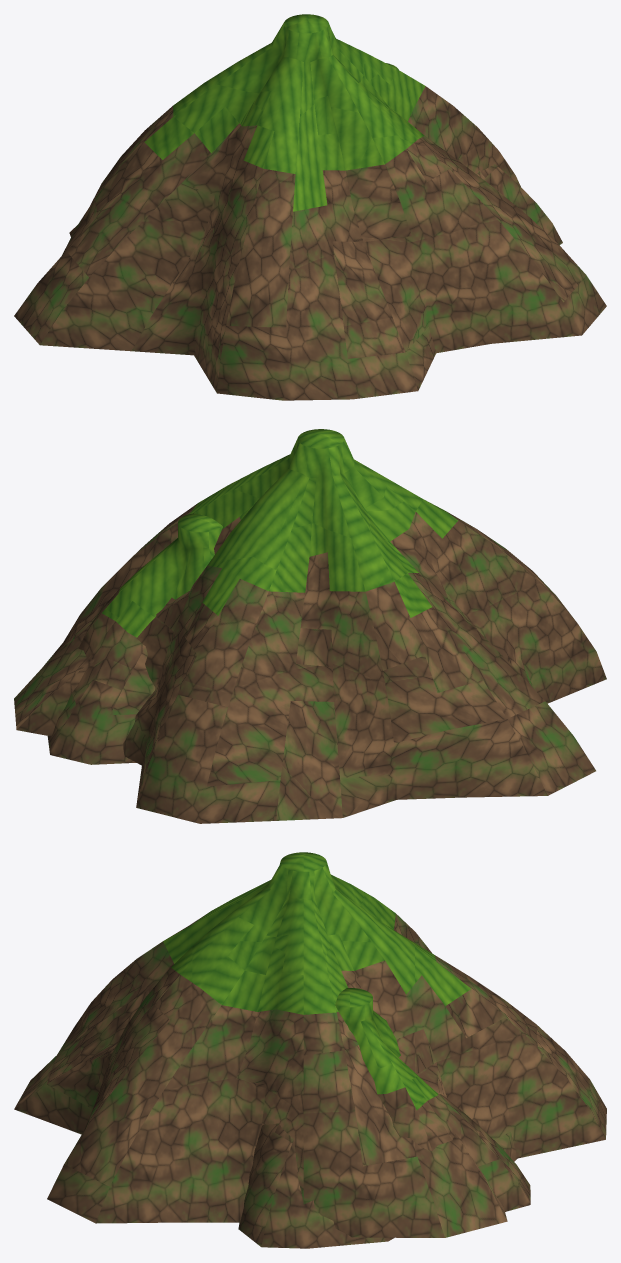
Rendered from prop_mountain_tiki.glb.
The picture shows the model from 3 angles, top to bottom: view 1: azimuth 30°, elevation 25°; view 2: azimuth 150°, elevation 25°; view 3: azimuth 270°, elevation 25°; orthographic projection. The views are drawn at different scales.
Parts seen in each view (by area): view 1: TikiPeakA; view 2: TikiPeakA; view 3: TikiPeakA.
Boxes of the visible parts, left/top/right/bottom form: TikiPeakA: left=14, top=14, right=606, bottom=400; TikiPeakA: left=14, top=429, right=606, bottom=823; TikiPeakA: left=14, top=852, right=606, bottom=1248.
Size of the model in its own units: 2.06 by 1.04 by 2.05.
2 materials, 2 textured.
